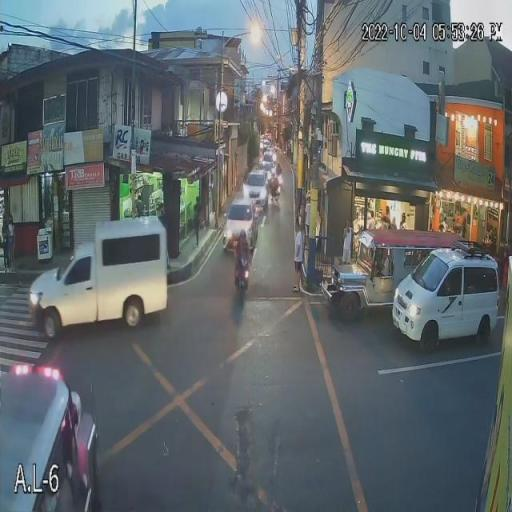helmet: (237, 229, 248, 242)
motorcycle: (231, 254, 250, 295)
rider: (236, 238, 248, 264)
